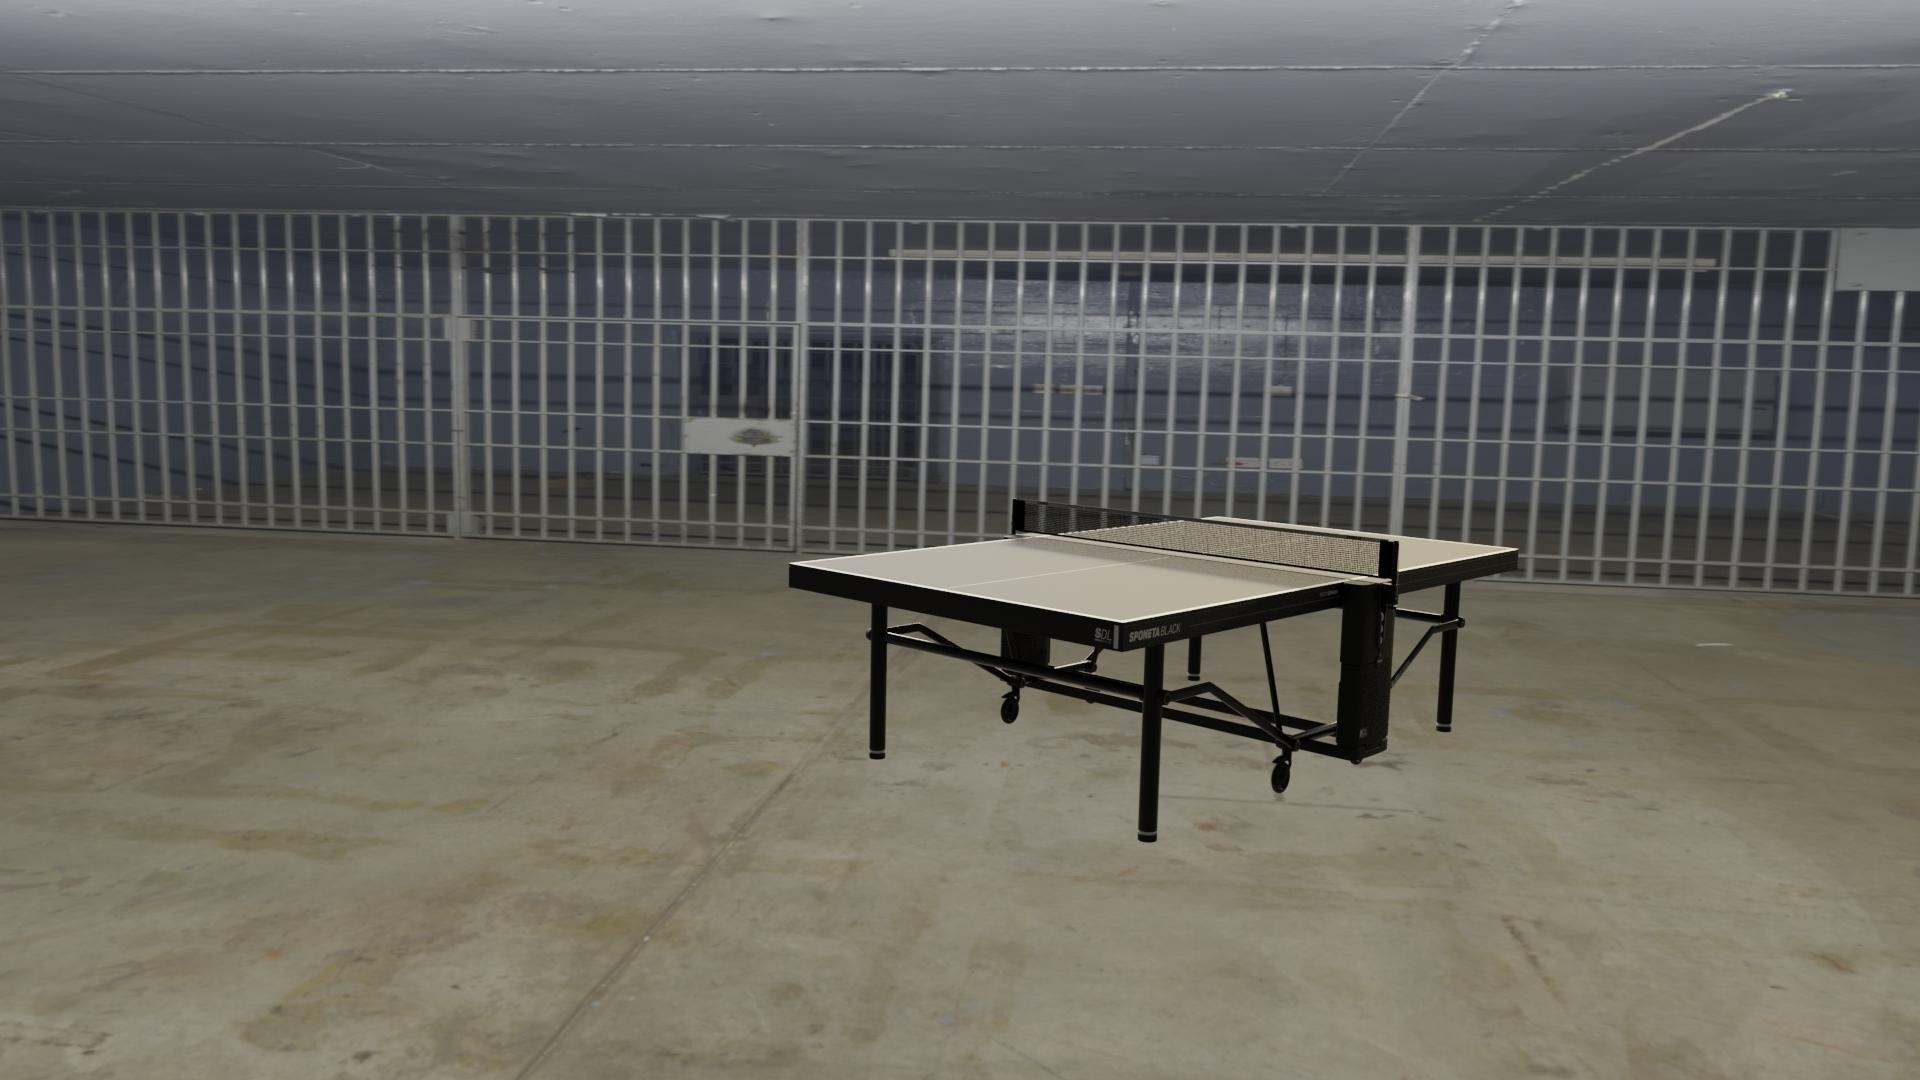table: (796, 517, 1513, 621)
